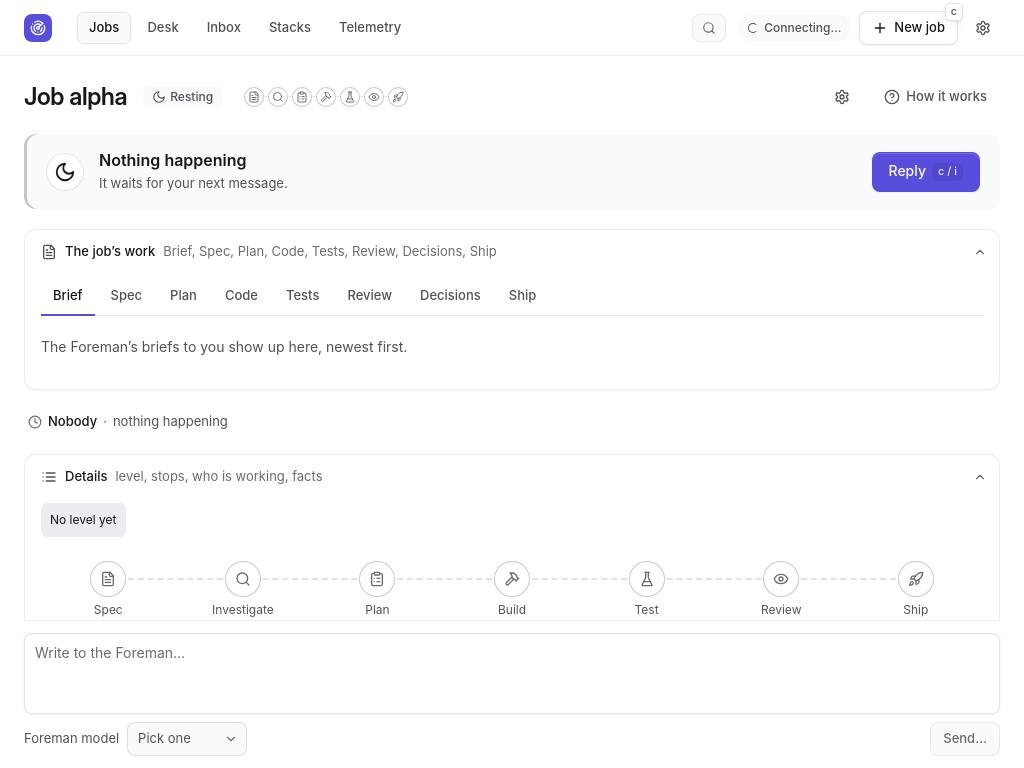
Test: App shell › the palette opens Mark done for the open job
Expected: the heading "Job alpha" is shown, [24,82,127,112]
Click the button named "Settings and more" at (983, 28), box [966,10,1000,44]
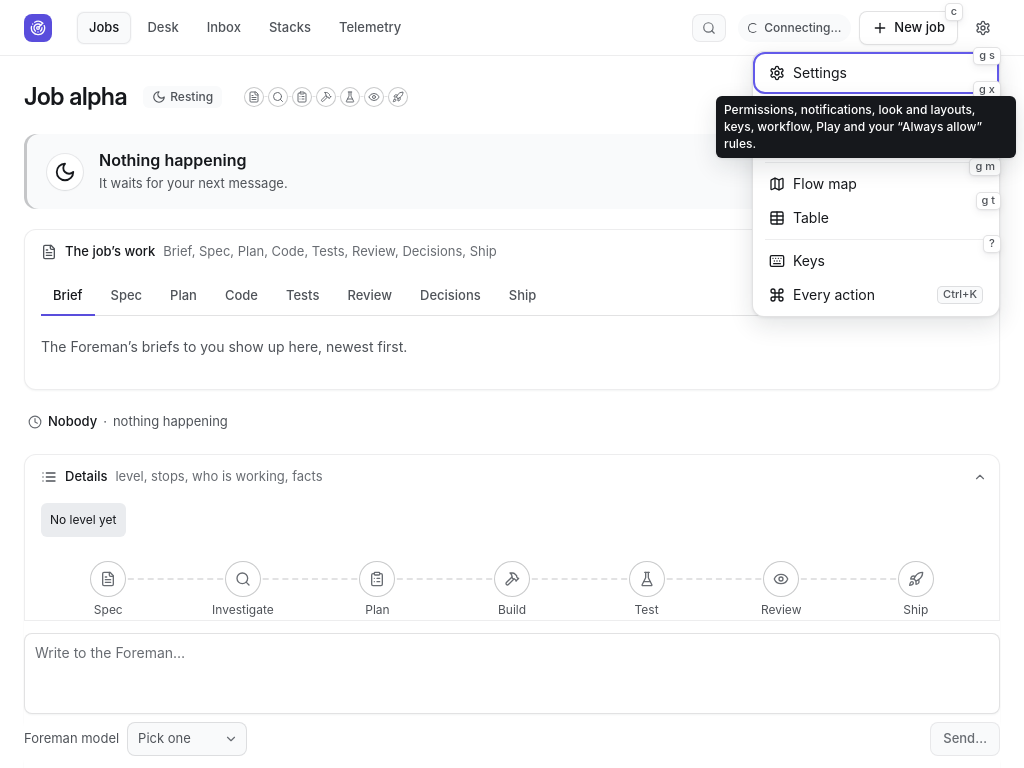
Click the menu item "Every action Ctrl+K" at (876, 294), box [757,278,995,312]
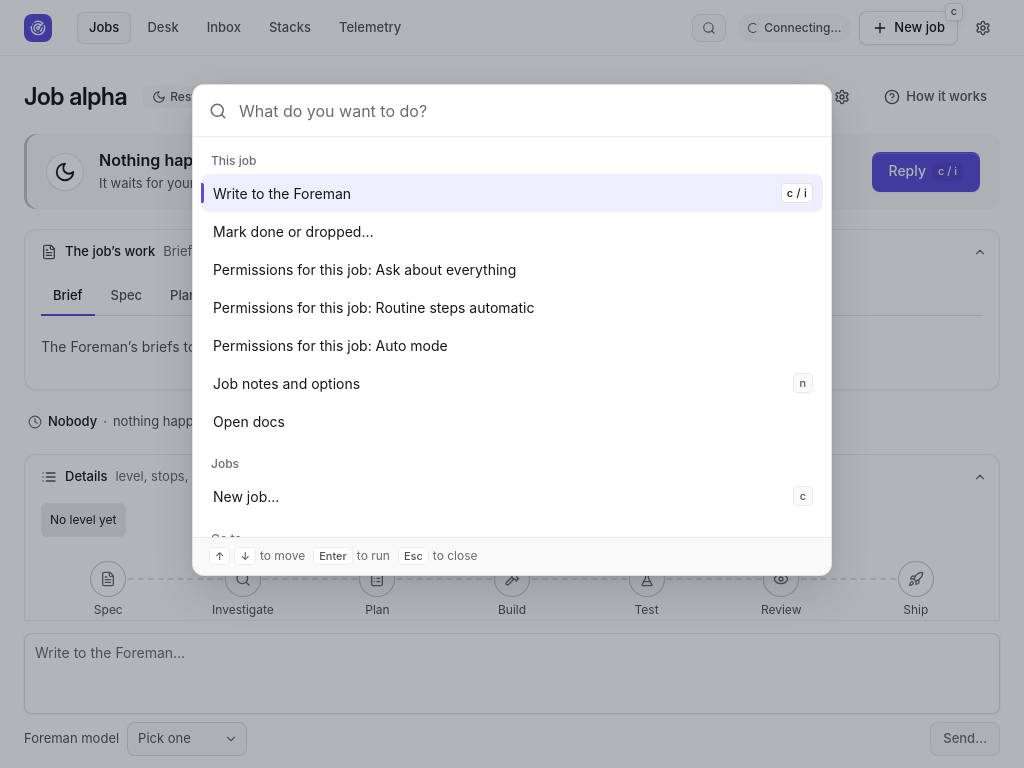
Type "mark" into the dropdown named "Search actions" at (527, 111), box [239,86,815,136]
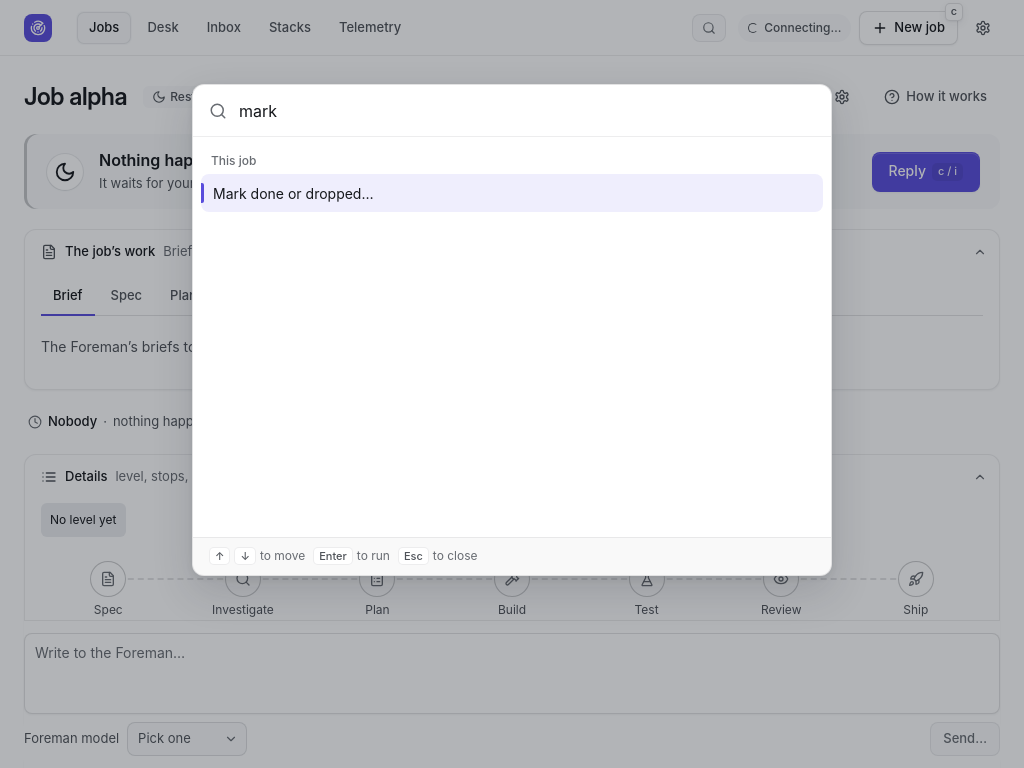
Press Enter in the dropdown named "Search actions", box [239,86,815,136]
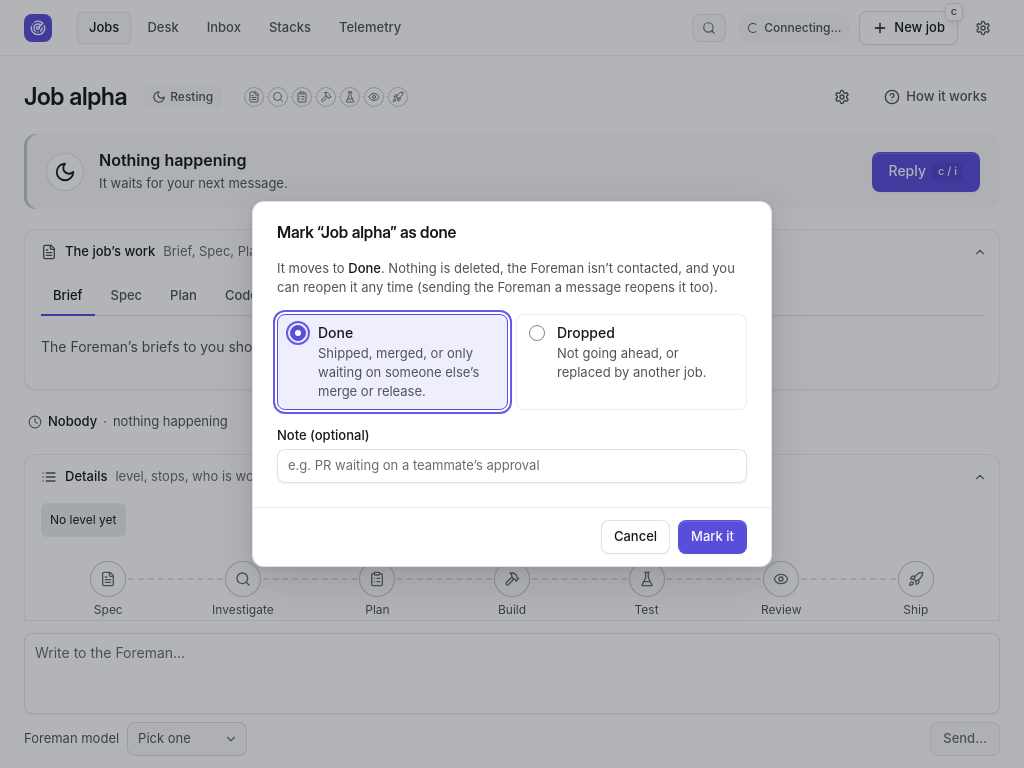
Result: the dialog "Mark “Job alpha” as done" is shown at [252,201,772,567]
